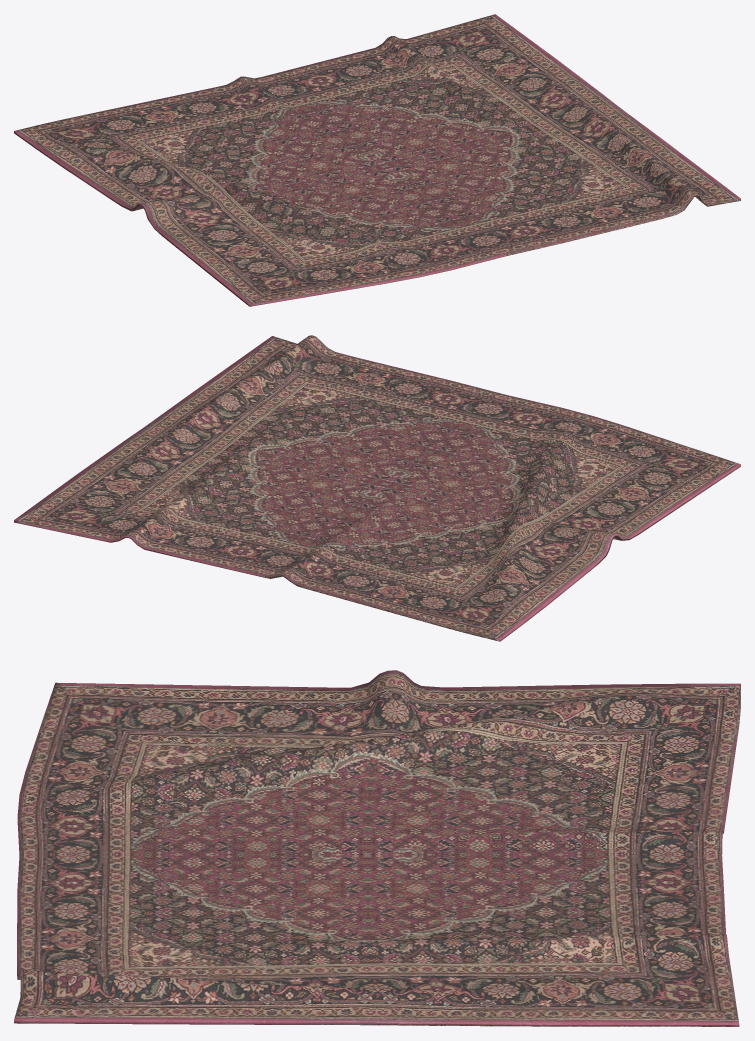
Rendered from carpet.obj.
3 views of the same model, one above another, from view 1: azimuth 30°, elevation 25°; view 2: azimuth 150°, elevation 25°; view 3: azimuth 270°, elevation 25° (orthographic). The views are drawn at different scales.
Visible parts, largest first — view 1: RealisticRug1; view 2: RealisticRug1; view 3: RealisticRug1.
Boxes of the visible parts, box(x1,y1,x2,y2) form: RealisticRug1: box(14, 14, 740, 306); RealisticRug1: box(14, 335, 740, 641); RealisticRug1: box(14, 670, 740, 1026).
Size of the model in its own units: 15.43 by 0.4677 by 13.91.
Materials: 1 (1 with a texture image).
